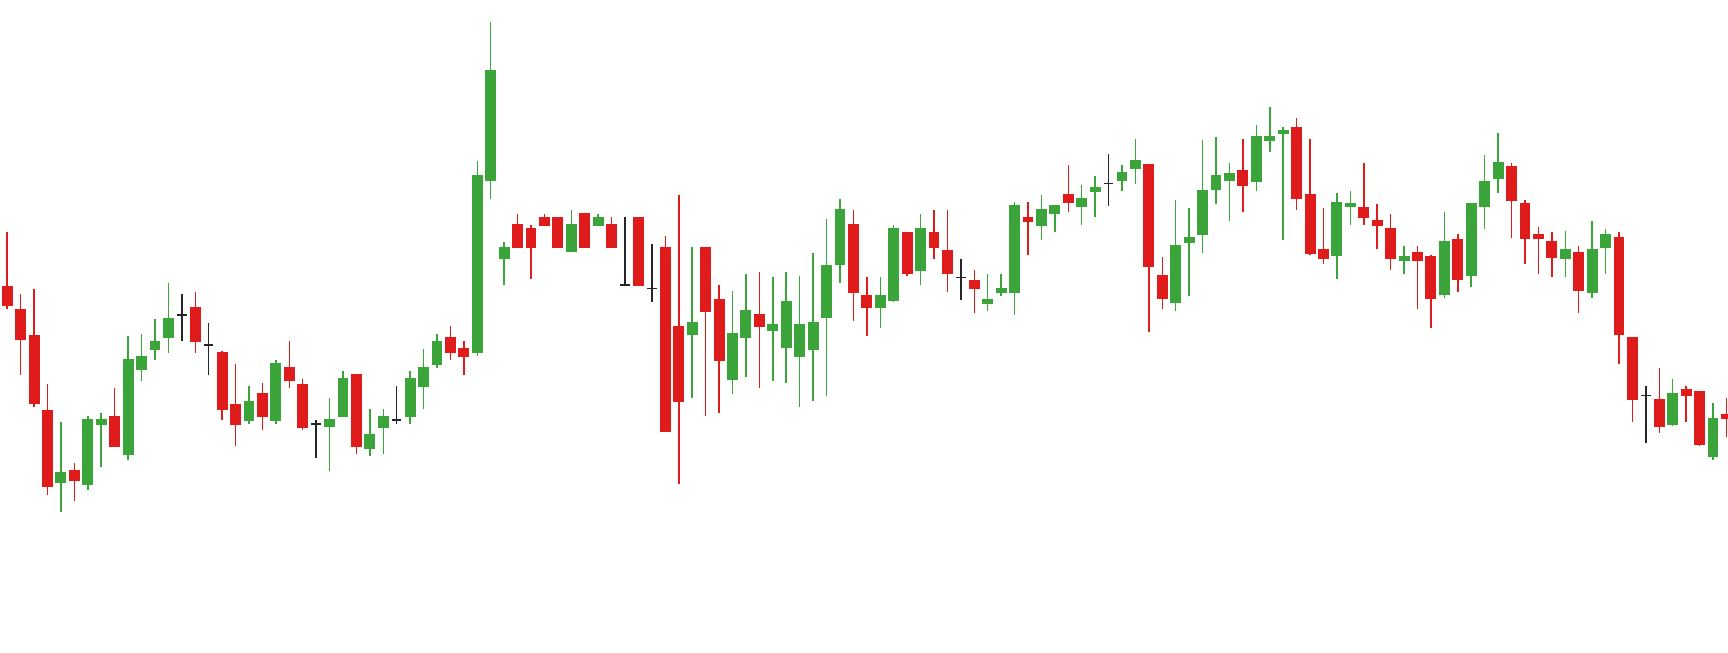buy: (1005, 193, 1184, 335), (228, 366, 335, 470)
sell: (1358, 128, 1519, 235)
